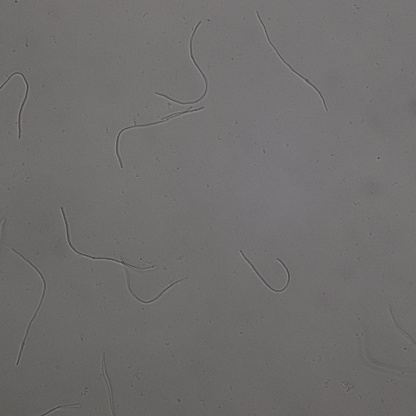Sensitive: (257, 12, 327, 110), (60, 207, 155, 272), (114, 108, 202, 168), (155, 22, 208, 107), (13, 249, 47, 365), (123, 257, 187, 303), (241, 252, 291, 293), (1, 70, 30, 139), (41, 403, 80, 415)
